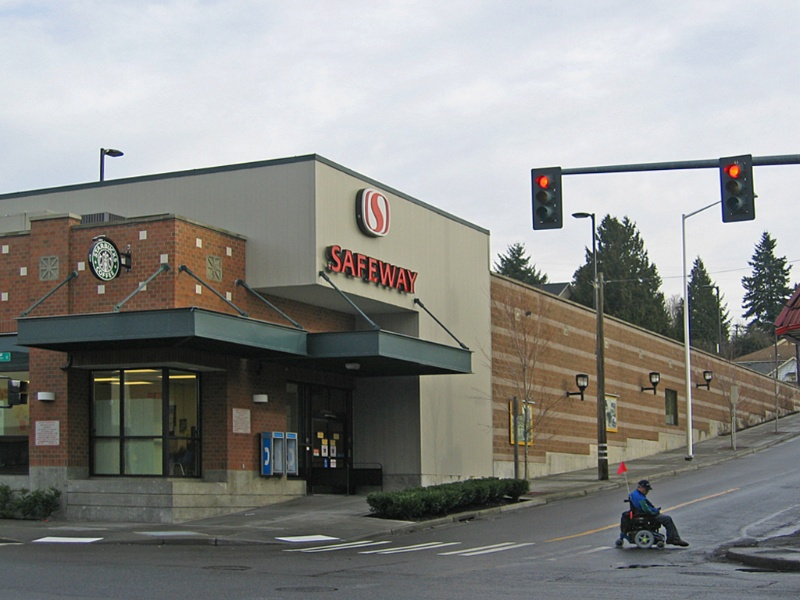red_light: (519, 162, 565, 200), (708, 152, 754, 188)
